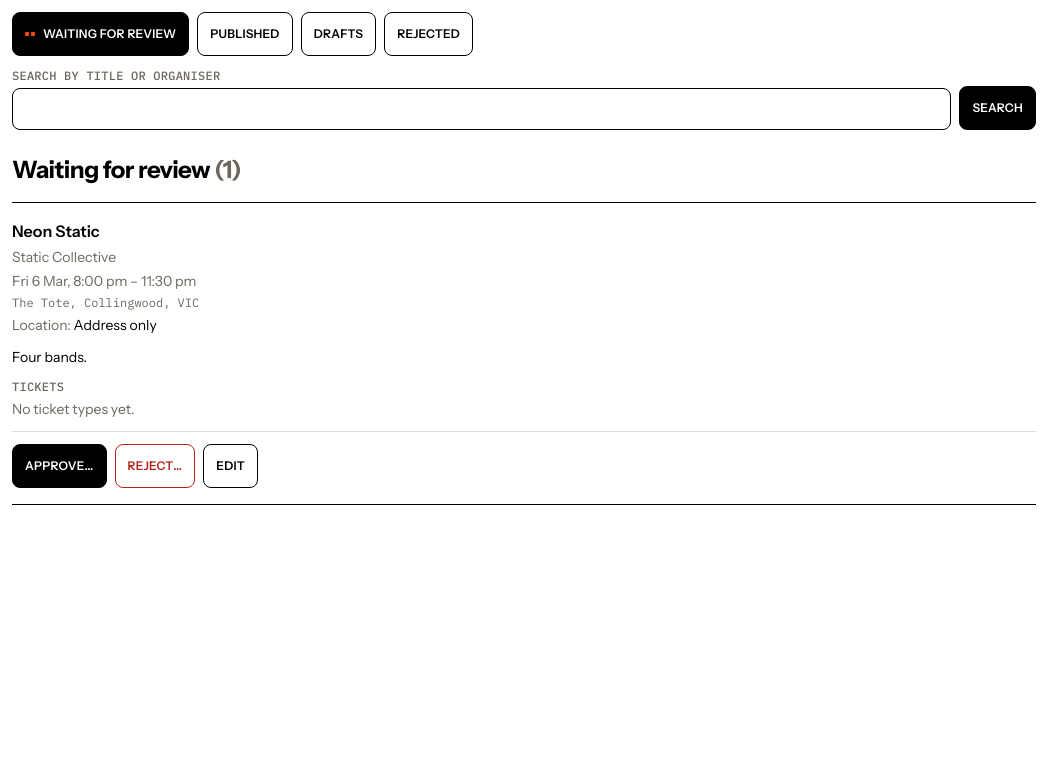
Scenario: EventQueue › a server error is shown in plain words, not the raw message, and the event stays
The width and height of the screenshot is (1048, 780).
What coordinates should you click on to do the following:
click the button with aria-label "Approve Neon Static…"
I would click on:
 (59, 466)
Its box is 12,444 -> 107,488.
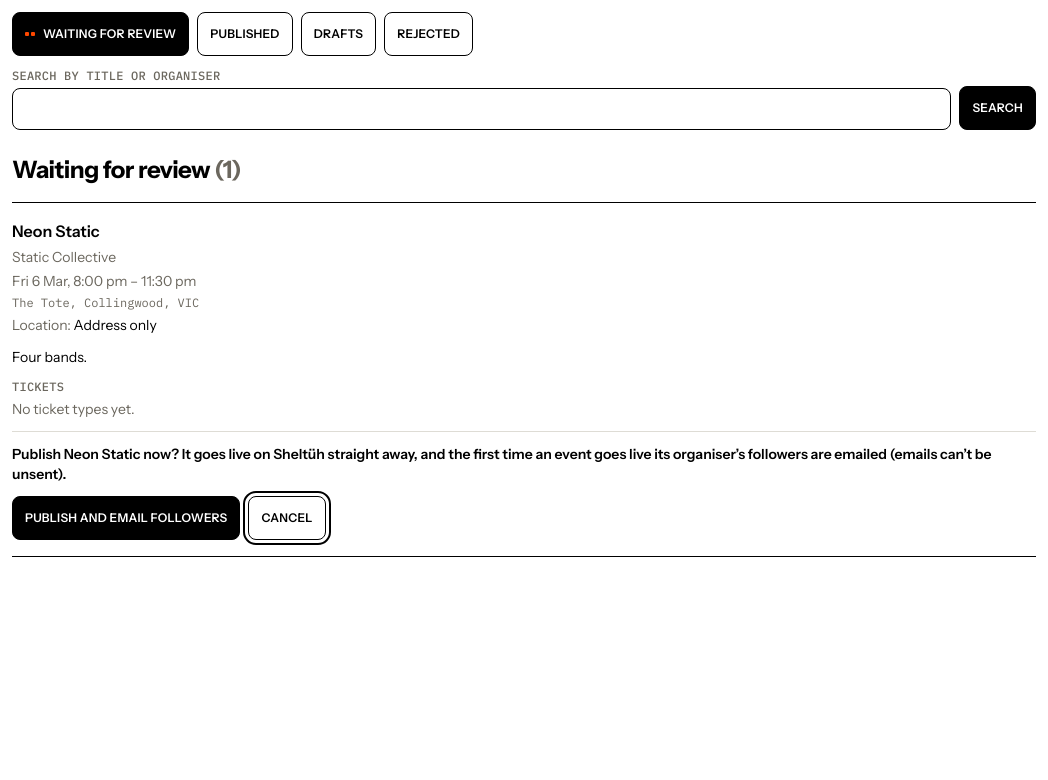
What coordinates should you click on to do the following:
click the button "Publish and email followers"
I would click on:
 (126, 518)
Its box is 12,496 -> 240,540.
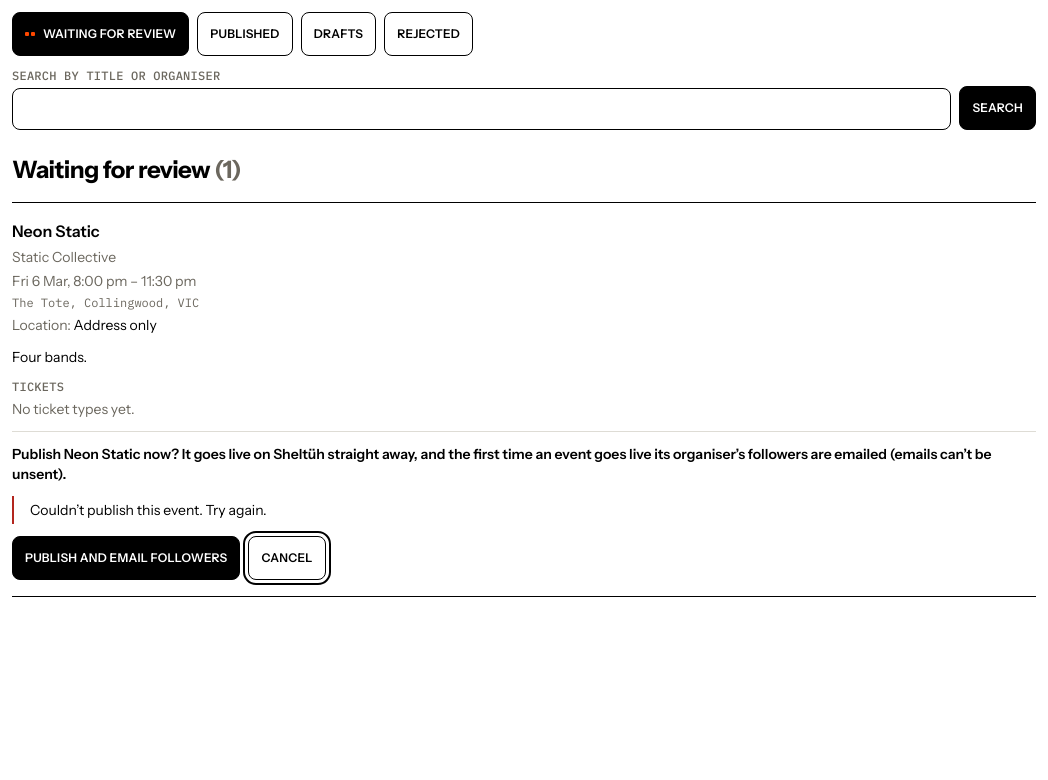
Expected: the heading "Neon Static" is shown, 12,221 -> 100,241
Now the message reads "Couldn’t publish this event. Try again.", box 30,501 -> 267,519
